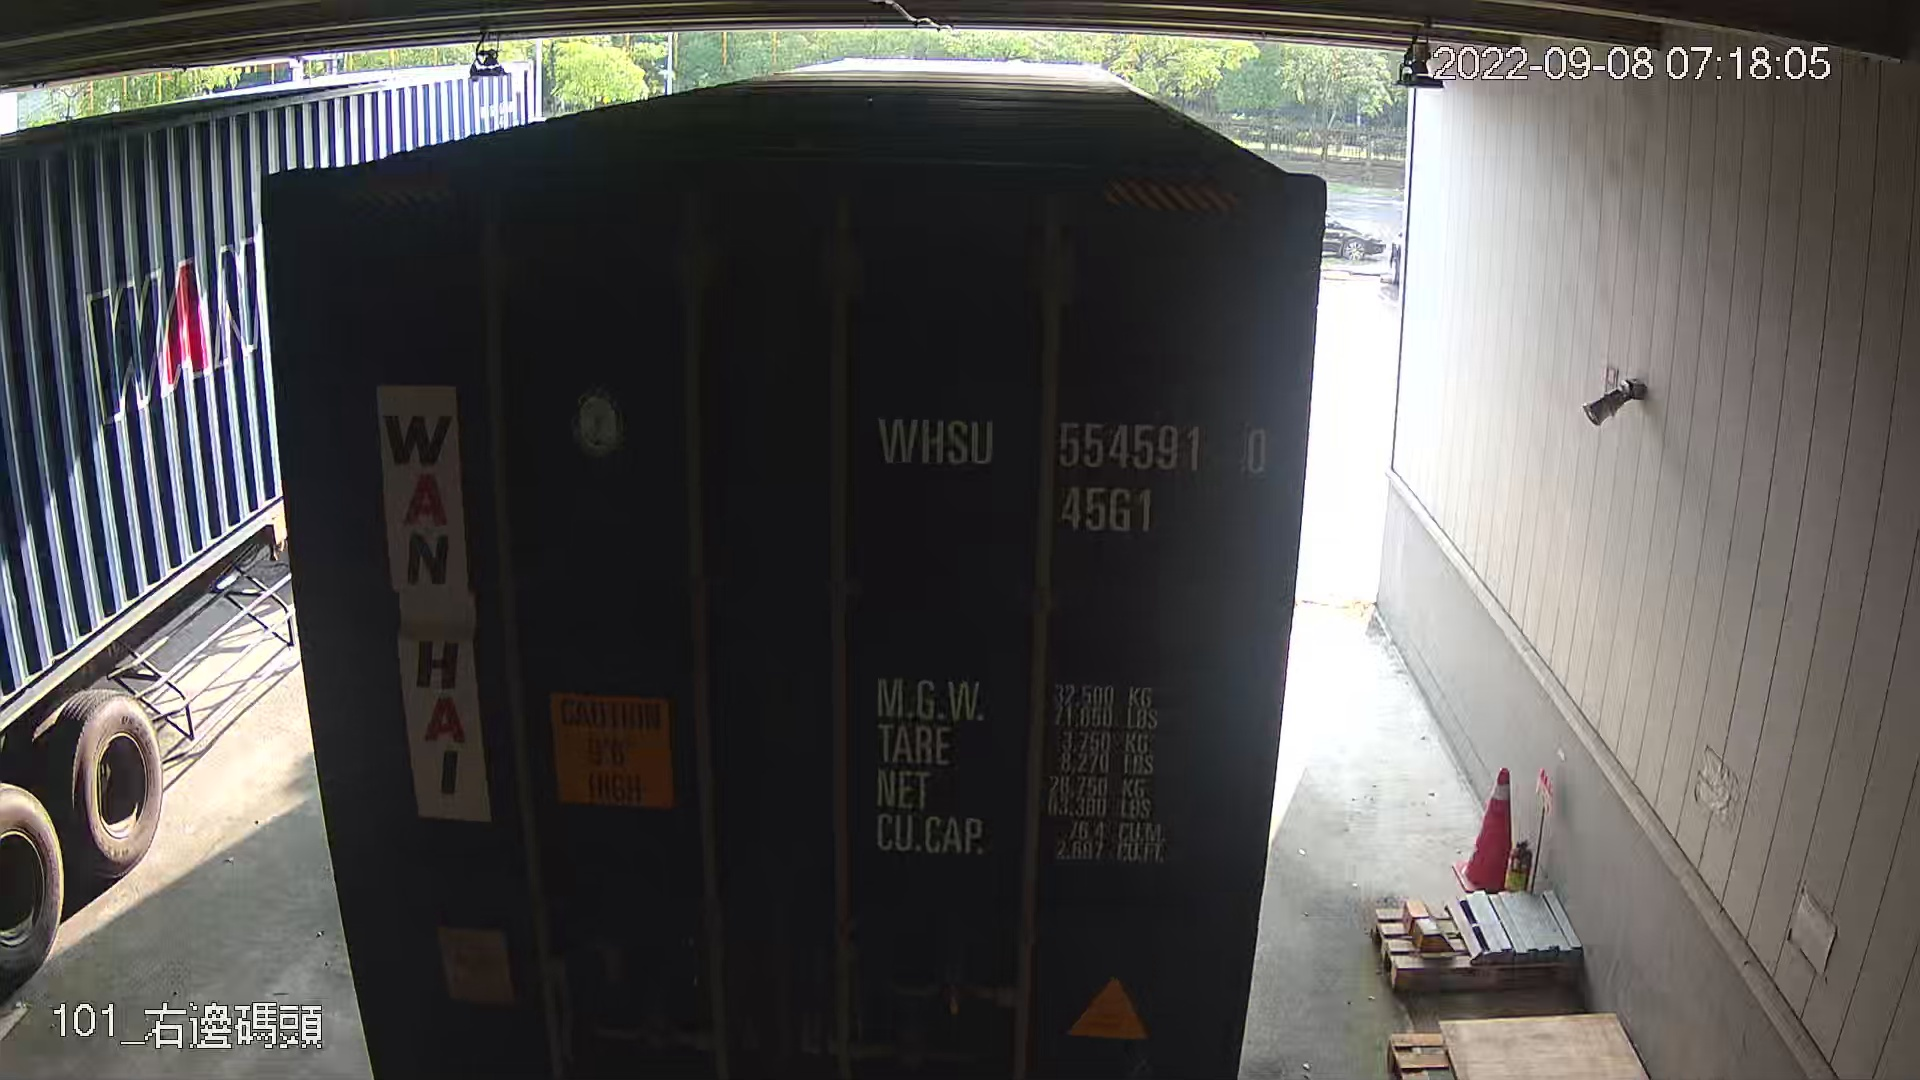container: (862, 400, 1280, 542)
